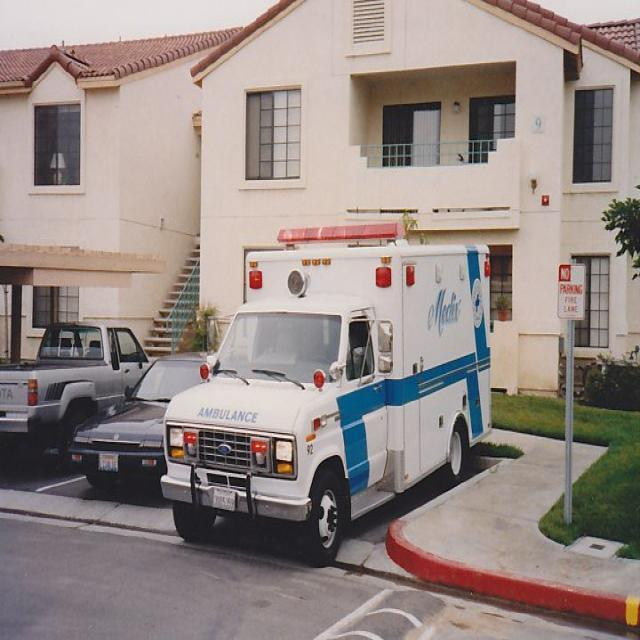emergency: (163, 227, 417, 561)
